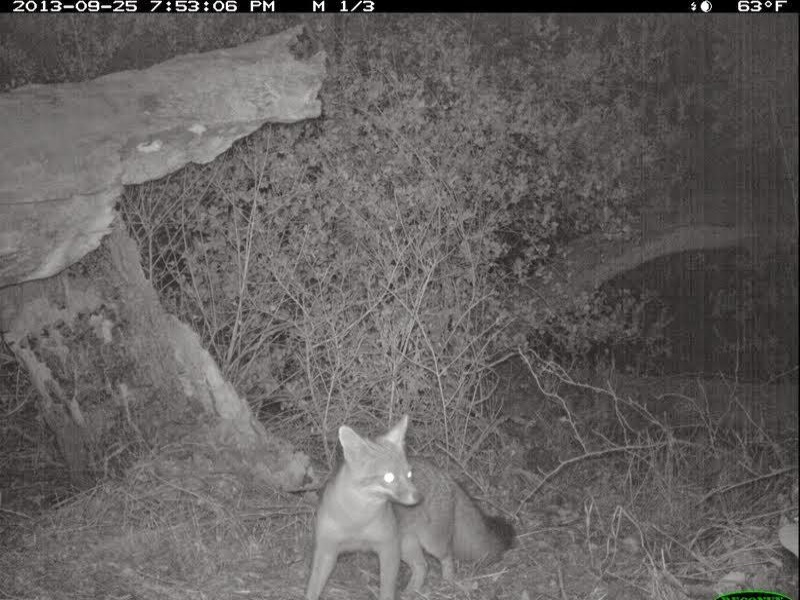fox: (293, 419, 513, 600)
